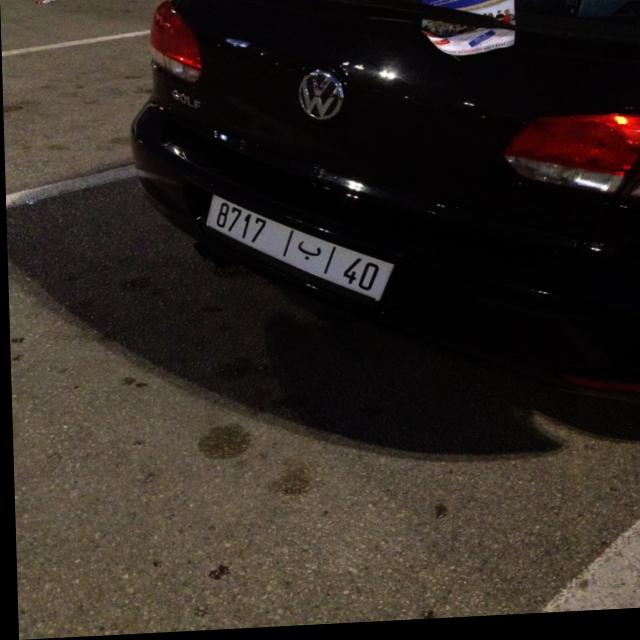License-Plate: (204, 198, 392, 304)
